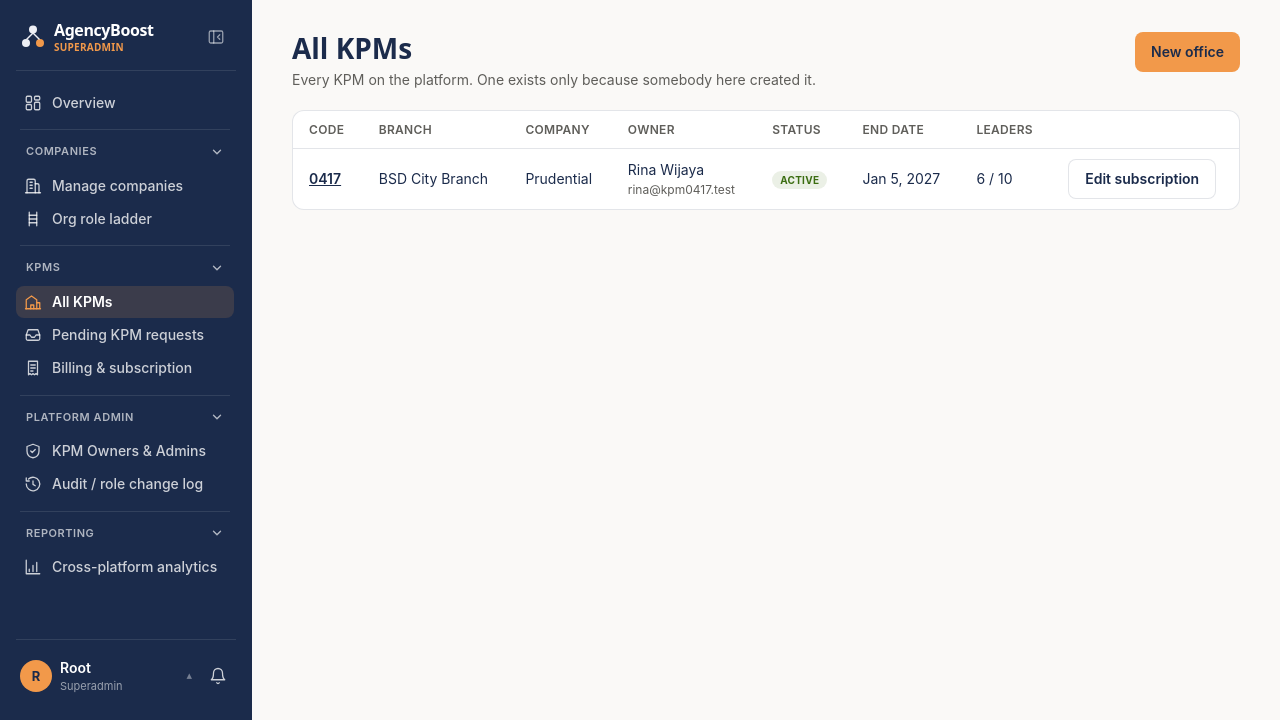
tenants list › subscriptions (P13.2-T3 AC-7, P13.2-T4 AC-7) › opens Edit subscription from a button named for its office, with the five fields and the leaders used now
Click the button with aria-label "Edit subscription for KPM 0417 · BSD City Branch". click: (1142, 179)
box: [1068, 159, 1216, 199]
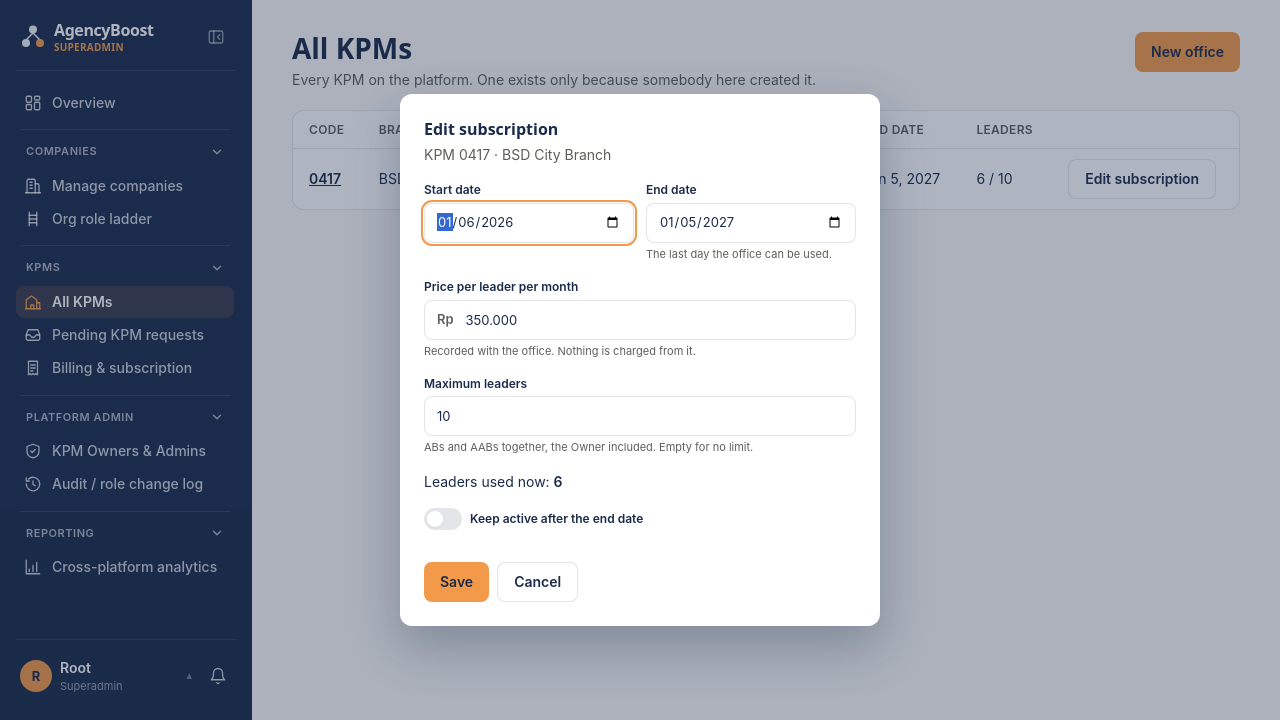
Check: the date field labelled "Start date" holds "2026-01-06", box [424, 203, 634, 243]
Check: the date field labelled "End date" holds "2027-01-05", box [646, 203, 856, 243]
Check: the field labelled "Price per leader per month" holds "350.000", box [466, 301, 855, 339]
